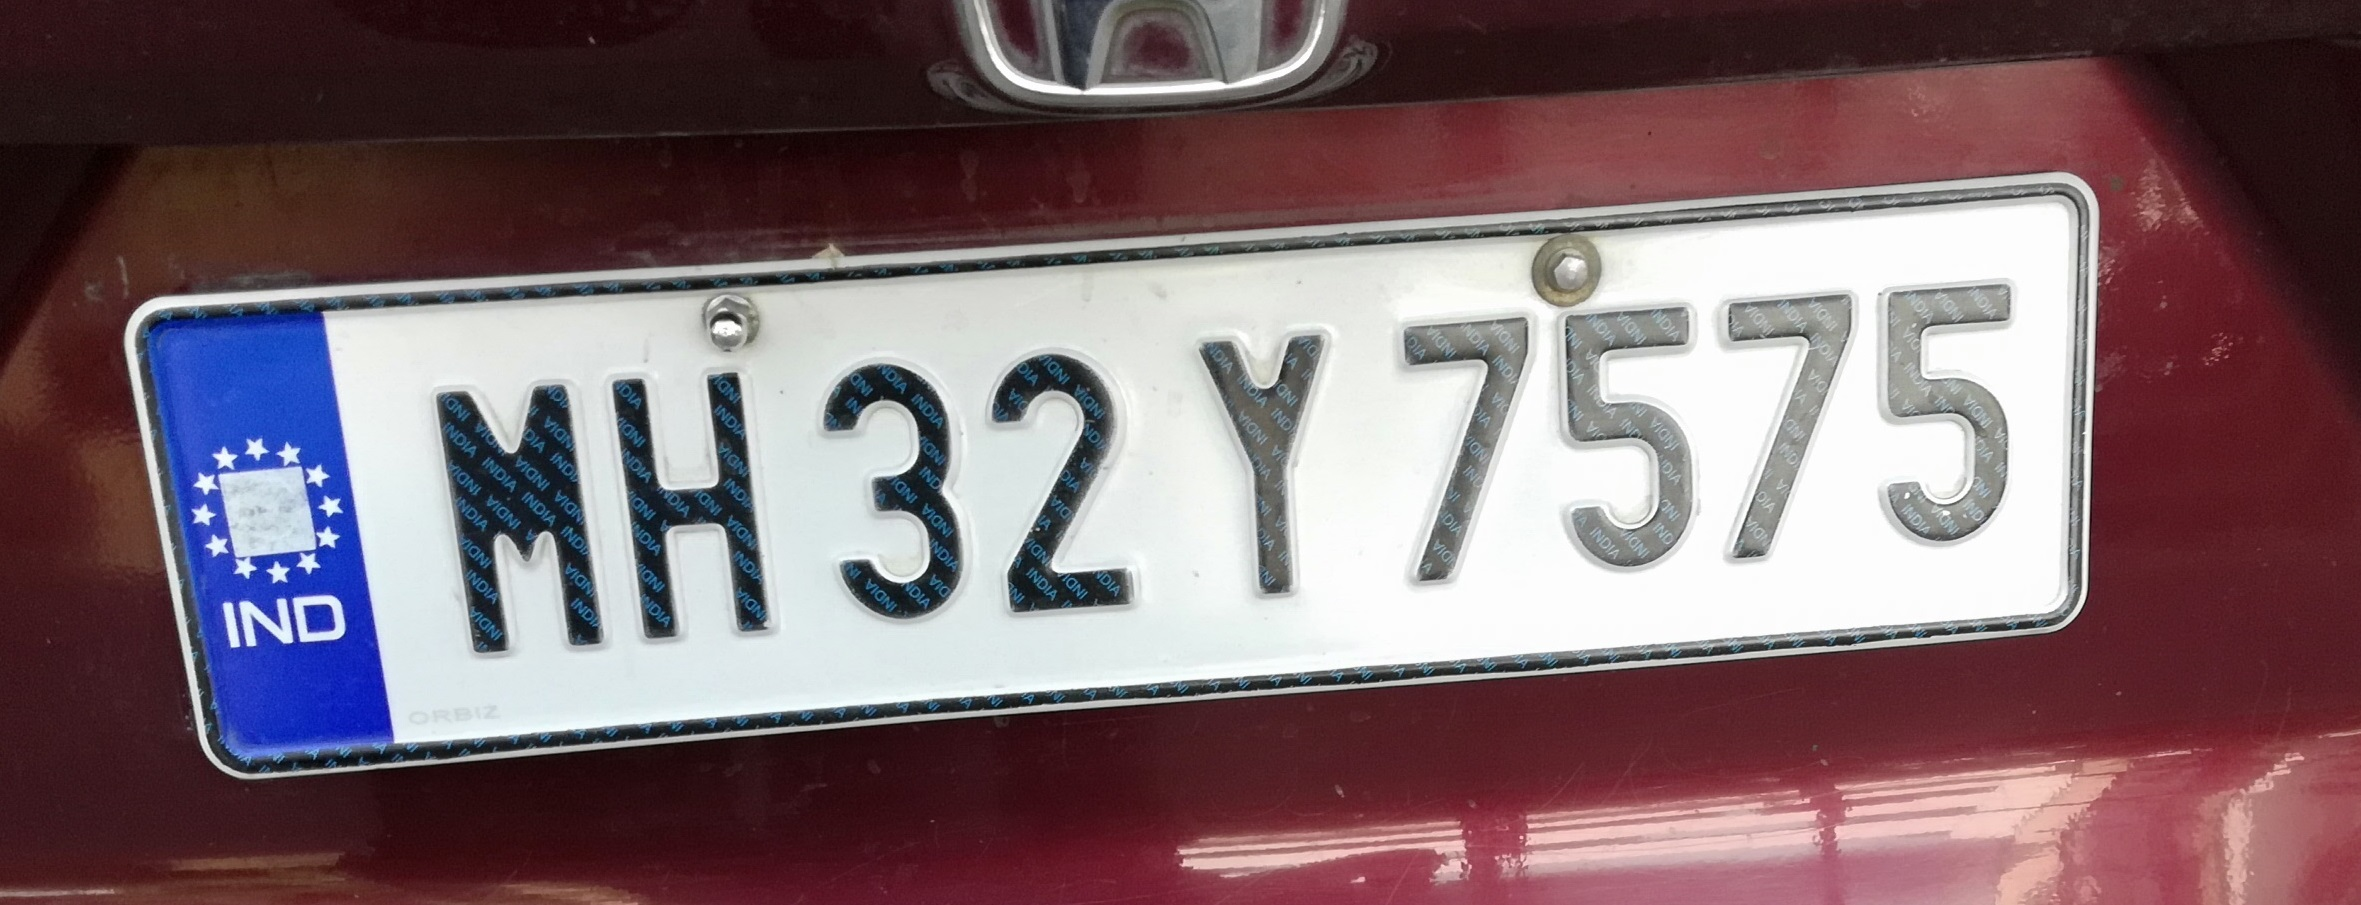numberplate: (134, 172, 2100, 779)
